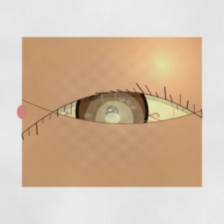corneal_ulcer: (84, 95, 145, 144)
